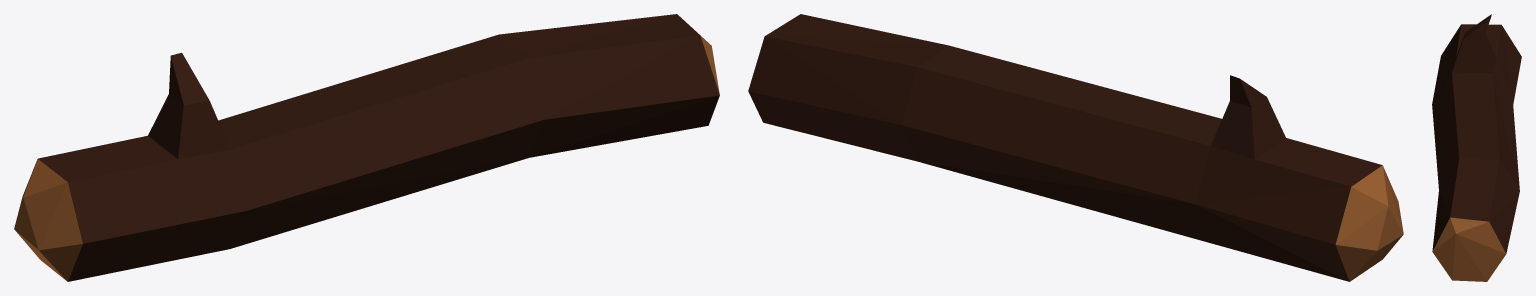
File: branch.obj
3 views of the same model, side by side, from view 1: azimuth 30°, elevation 25°; view 2: azimuth 150°, elevation 25°; view 3: azimuth 270°, elevation 25° (orthographic). The views are drawn at different scales.
Visible parts, largest first — view 1: Branch NaturePack; view 2: Branch NaturePack; view 3: Branch NaturePack.
Boxes of the visible parts, <box> form: Branch NaturePack: <box>14,14,719,281</box>; Branch NaturePack: <box>748,14,1403,281</box>; Branch NaturePack: <box>1432,14,1521,281</box>.
Size of the model in its own units: 24.18 by 6.26 by 4.44.
